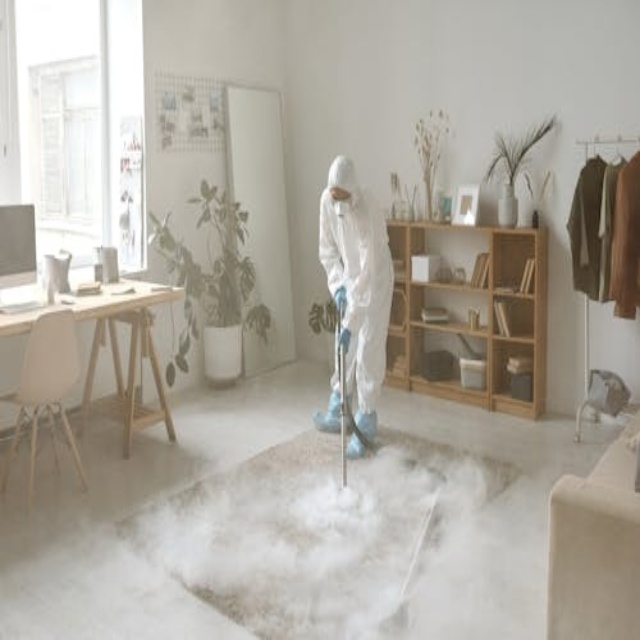Guantes: (335, 286, 347, 315), (339, 327, 351, 354)
Mascara: (334, 199, 349, 217)
